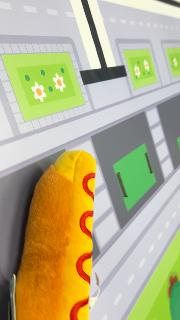hotdog: (14, 149, 98, 319)
